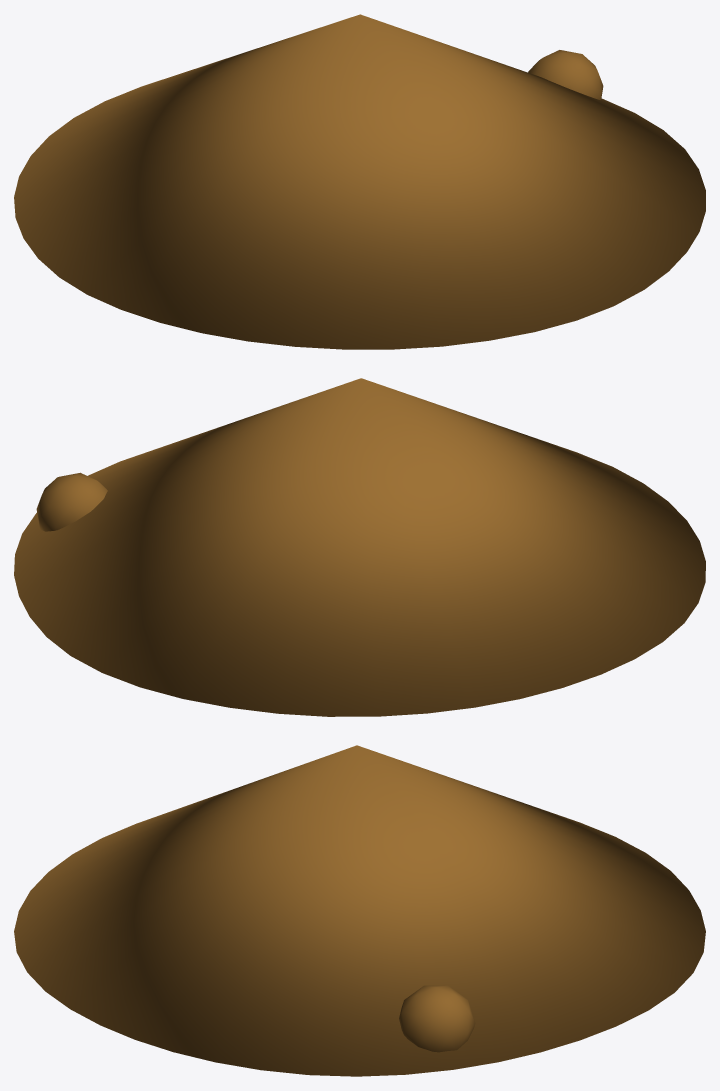
The model's file is small-sand-pile.obj.
3 views of the same model, one above another, from view 1: azimuth 30°, elevation 25°; view 2: azimuth 150°, elevation 25°; view 3: azimuth 270°, elevation 25° (orthographic). The views are drawn at different scales.
Parts seen in each view (by area): view 1: small-sand-pile; view 2: small-sand-pile; view 3: small-sand-pile.
Part boxes in pixels (x1,y1,x2,y2): small-sand-pile: (14,14,705,349); small-sand-pile: (14,378,705,716); small-sand-pile: (14,745,705,1076).
Size of the model in its own units: 0.8663 by 0.275 by 0.8757.
